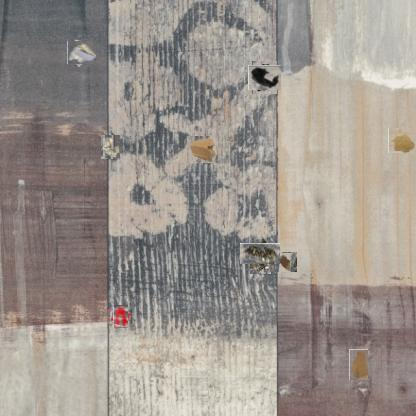dirty: (245, 239, 276, 269), (186, 135, 218, 163), (250, 63, 279, 92), (69, 39, 95, 66), (263, 252, 297, 272), (349, 349, 368, 380), (102, 135, 122, 159)
liquid: (389, 127, 415, 154), (111, 307, 130, 326)
